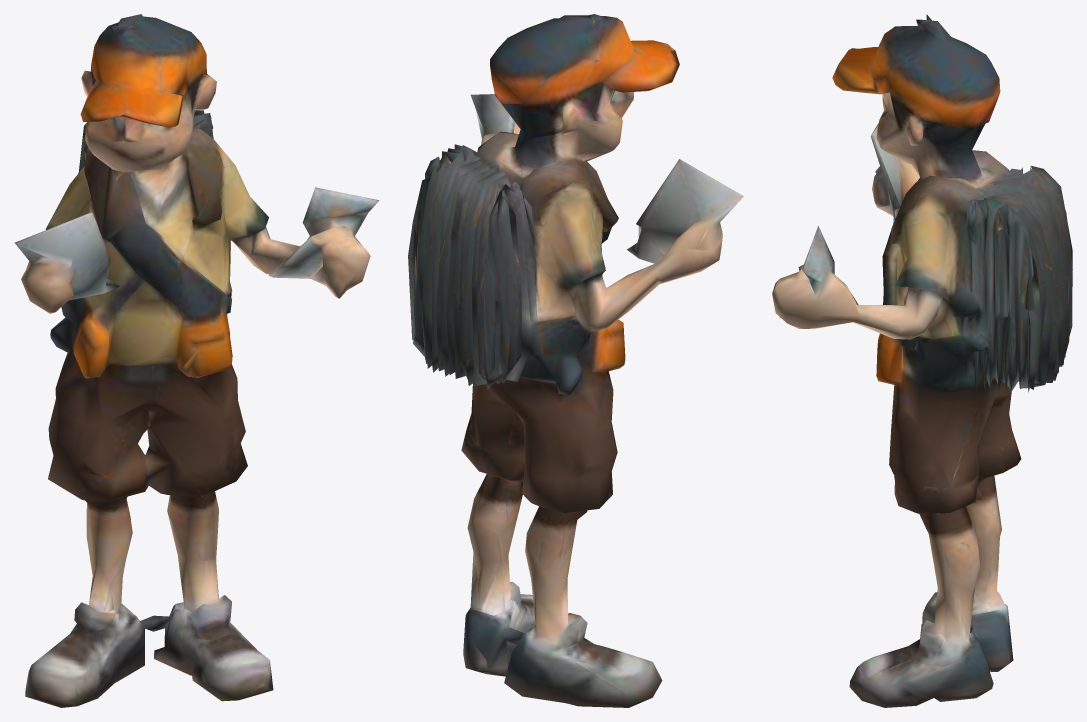
Rendered from obstacle-flyer-worker.glb.
3 renders of one model, left to right at view 1: azimuth 30°, elevation 25°; view 2: azimuth 150°, elevation 25°; view 3: azimuth 270°, elevation 25°, orthographic. The views are drawn at different scales.
Size of the model in its own units: 1 by 2 by 0.8605.
1 material, 1 textured.
